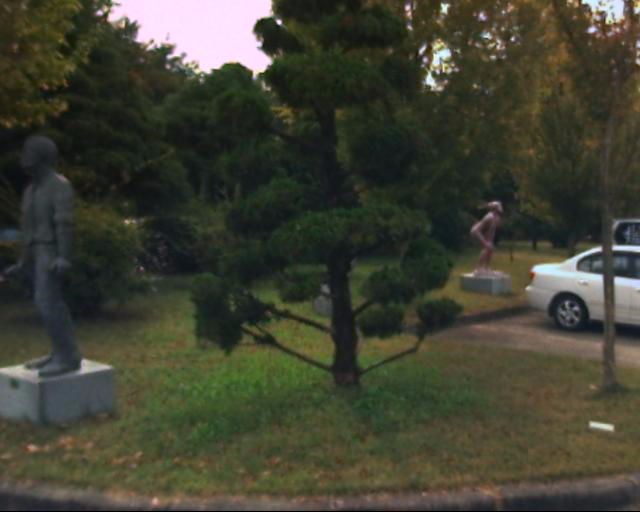person: (14, 125, 100, 383), (461, 197, 508, 285)
